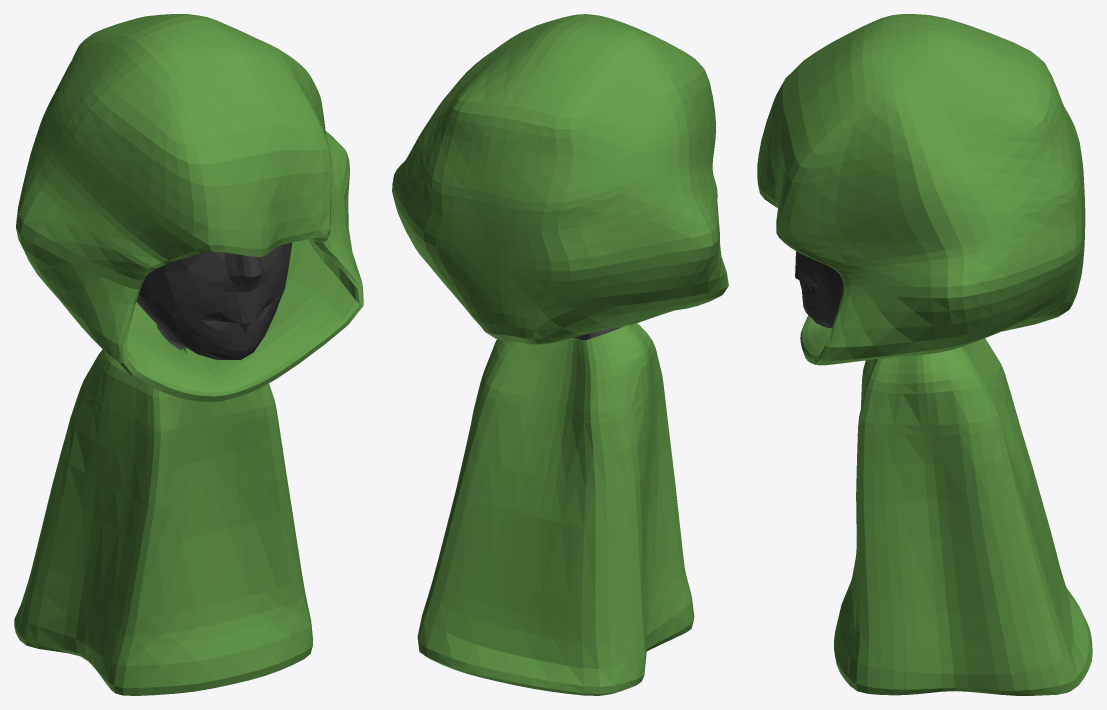
Rendered from character_still.fbx.
3 views of the same model, side by side, from view 1: azimuth 30°, elevation 25°; view 2: azimuth 150°, elevation 25°; view 3: azimuth 270°, elevation 25° (orthographic). The views are drawn at different scales.
Parts seen in each view (by area): view 1: polySurface254; view 2: polySurface254; view 3: polySurface254.
Part boxes in pixels (left/top/right/bottom): polySurface254: left=14, top=14, right=363, bottom=695; polySurface254: left=392, top=14, right=728, bottom=695; polySurface254: left=757, top=14, right=1092, bottom=695.
Bounding box in the file's own units: 84.74 × 155 × 76.04.
